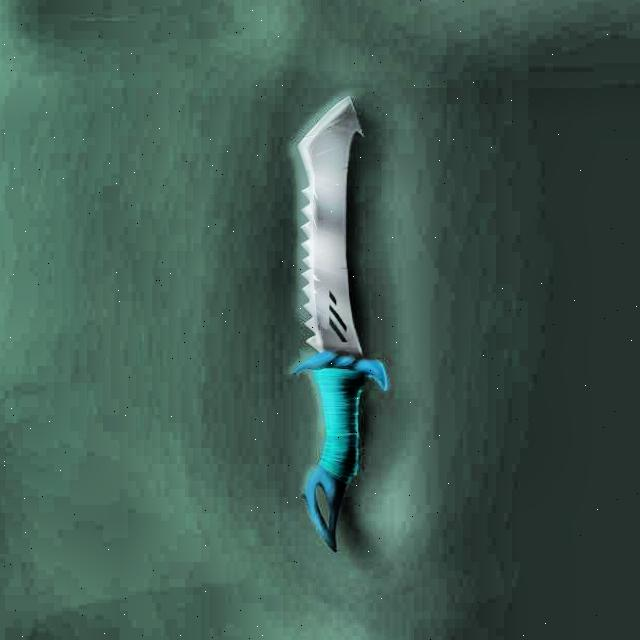knife: (288, 86, 400, 554)
